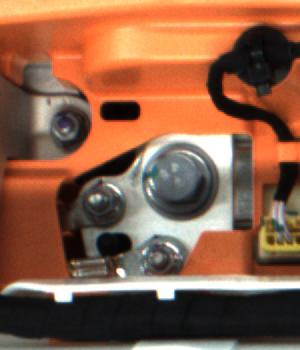nut_b: (139, 133, 230, 223)
